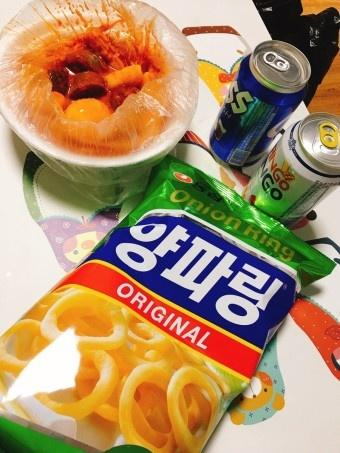snack: (0, 150, 337, 453)
